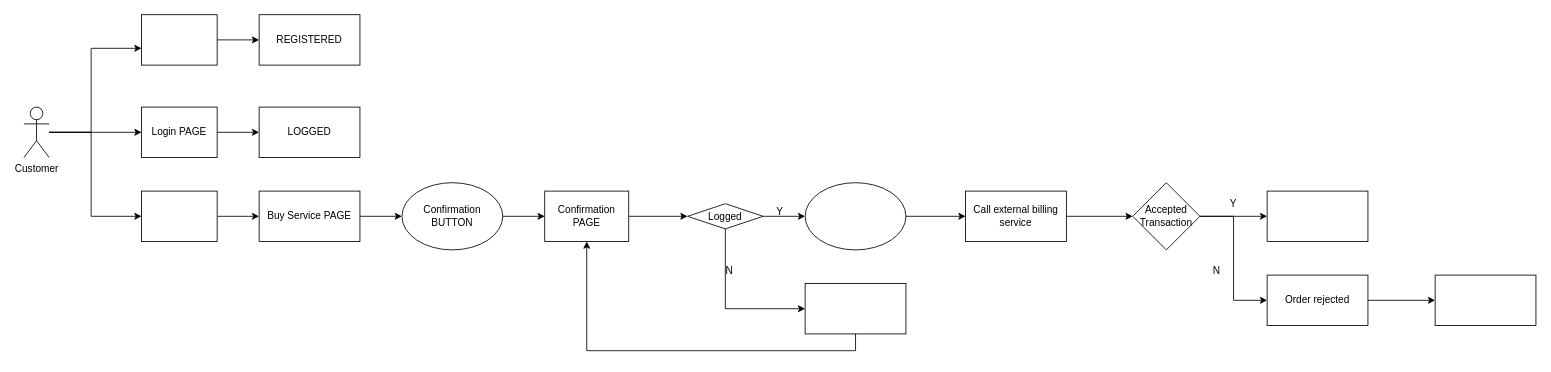
The diagram is 1551 pixels wide and 372 high, and some of its shapes have lost their labels. Here are the shapes that lost their labels. From the top down, the centre of each, then its label:
At point 179,39: "Registration PAGE".
At point 179,216: "Home PAGE".
At point 855,216: "Buy BUTTON".
At point 1317,216: "Create Service Activation Schedule".
At point 855,308: "Login / Registration PROCESS".
At point 1485,300: "User marked as Insolvent".
